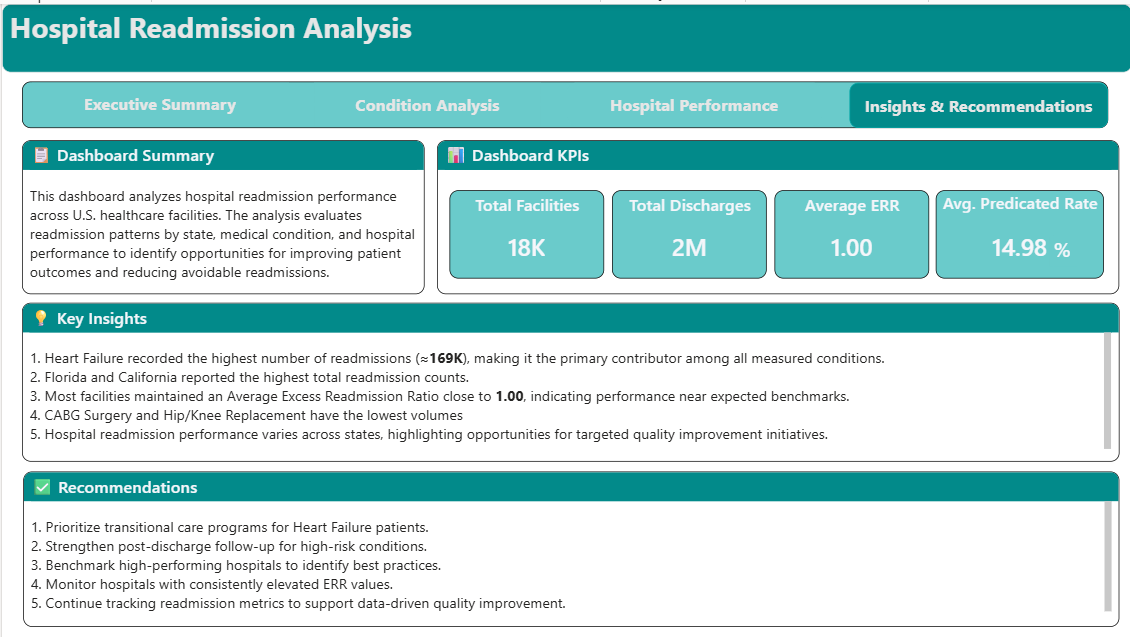

Layout of this report page (visuals, bound fields, positions):
{"tool":"powerbi","page":{"name":"Insights and recommendation","canvas":[1280,720],"ordinal":3},"visuals":[{"type":"textbox","title":"Hospital Readmission Analysis","box":[0,0,1280.3,78],"z":0},{"type":"cardVisual","title":"Total Facilities","fields":{"Data":["cleaned_data.sel_Total_Facities"]},"box":[507.1,211.4,175,100],"z":0,"group":"g2"},{"type":"textbox","box":[22.9,87.1,1230,52.9],"z":500,"group":"g1"},{"type":"group","id":"g1","title":"Group 1","box":[22.9,87.1,1230,52.9],"z":1000},{"type":"actionButton","title":"Executive Summary ","box":[33.6,88.4,290,47.2],"z":1000,"group":"g1"},{"type":"cardVisual","title":"Total Discharges","fields":{"Data":["cleaned_data.SEL_TOTAL_DISCHARGES"]},"box":[690.9,211.4,175,100],"z":1000,"group":"g2"},{"type":"actionButton","title":"Executive Summary ","box":[960,88.5,292.9,51.4],"z":1500,"group":"g1"},{"type":"actionButton","title":"Executive Summary ","box":[354.3,88.3,255.7,48.6],"z":2000,"group":"g1"},{"type":"textbox","title":"📋 Dashboard Summary","box":[22.9,154.3,455.7,174.3],"z":2000},{"type":"cardVisual","title":"Avg. Predicated Rate","fields":{"Data":["cleaned_data.SEL_predicated"]},"box":[1058.5,211.4,190,100],"z":2000,"group":"g2"},{"type":"textbox","title":"📊 Dashboard KPIs","box":[492.9,154.3,772.9,174.3],"z":3000},{"type":"cardVisual","title":"Average ERR","fields":{"Data":["cleaned_data.SEL_AVG_ERR"]},"box":[874.7,211.4,175,100],"z":3000,"group":"g2"},{"type":"actionButton","title":"Executive Summary ","box":[640.8,88.3,288.6,48.6],"z":4000,"group":"g1"},{"type":"group","id":"g2","title":"Group 2","box":[507.1,211.4,741.4,100],"z":4000},{"type":"textbox","title":"%","box":[1187.1,261.4,30,35.7],"z":6000},{"type":"textbox","title":"💡 Key Insights","box":[22.9,338.6,1242.9,180],"z":7000},{"type":"textbox","title":"✅ Recommendations","box":[23.6,529.1,1241.8,176.4],"z":8000}]}

Visuals, with their boxes in screenshot pixels (x1, y1, x2, y2), scaled from the page's 1280x720 canvas onto the 1130x637 screenshot:
"Hospital Readmission Analysis" textbox: 0:0:1129:69
"Total Facilities" cardVisual: 448:187:602:276
textbox: 20:77:1106:124
"Group 1" group: 20:77:1106:124
"Executive Summary " actionButton: 30:78:286:120
"Total Discharges" cardVisual: 610:187:764:276
"Executive Summary " actionButton: 848:78:1106:124
"Executive Summary " actionButton: 313:78:539:121
"📋 Dashboard Summary" textbox: 20:137:423:291
"Avg. Predicated Rate" cardVisual: 934:187:1102:276
"📊 Dashboard KPIs" textbox: 435:137:1117:291
"Average ERR" cardVisual: 772:187:927:276
"Executive Summary " actionButton: 566:78:820:121
"Group 2" group: 448:187:1102:276
"%" textbox: 1048:231:1074:263
"💡 Key Insights" textbox: 20:300:1117:459
"✅ Recommendations" textbox: 21:468:1117:624
